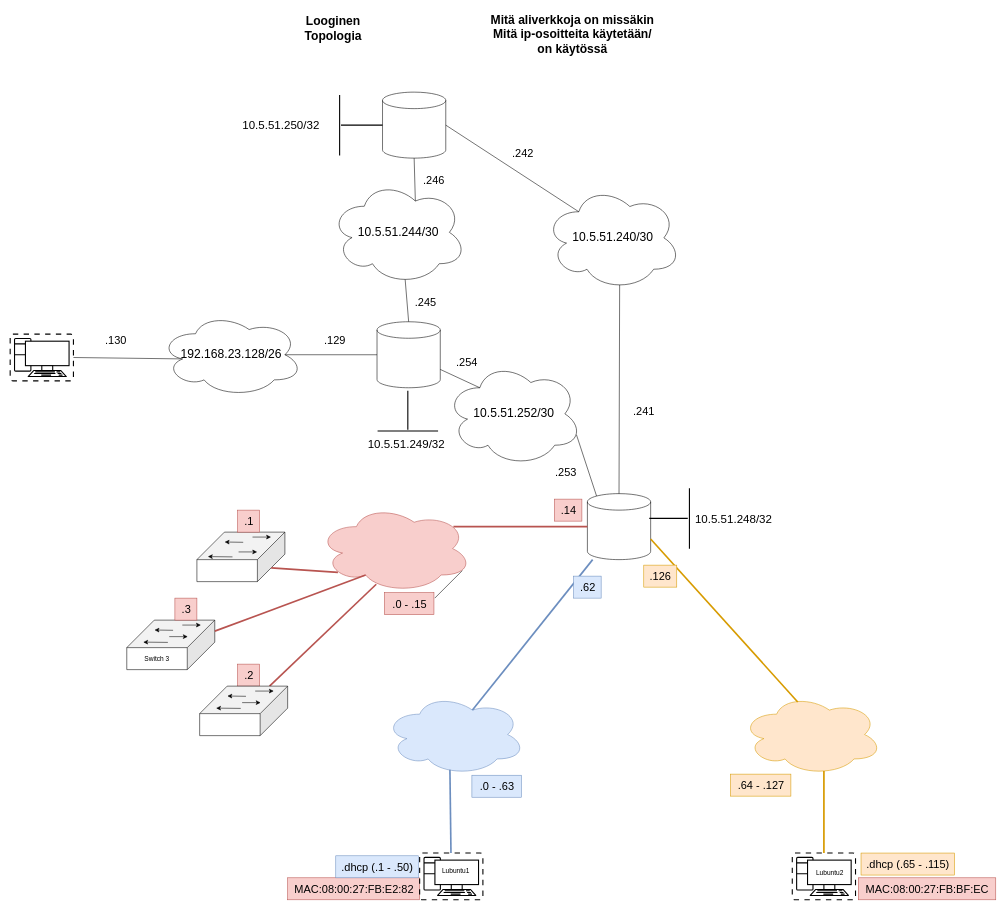
Some shapes in this 1005 by 910 pixel diagram are drawn without their labels. Each missing label, with the box of its shape:
Lubuntu3: (9, 333, 74, 381)
Switch 1: (196, 532, 285, 582)
Switch 2: (199, 686, 288, 736)
VLAN network_devices (tag 15) 10.5.51.0/28: (317, 504, 472, 593)
VLAN waitingstations (tag 10) 192.168.23.64/26: (741, 693, 882, 775)
VLAN workstations (tag 5) 192.168.23.0/26: (384, 693, 525, 775)
VYOS 1: (587, 493, 651, 560)
VYOS 2: (376, 321, 440, 388)
VYOS 3: (382, 92, 446, 158)
